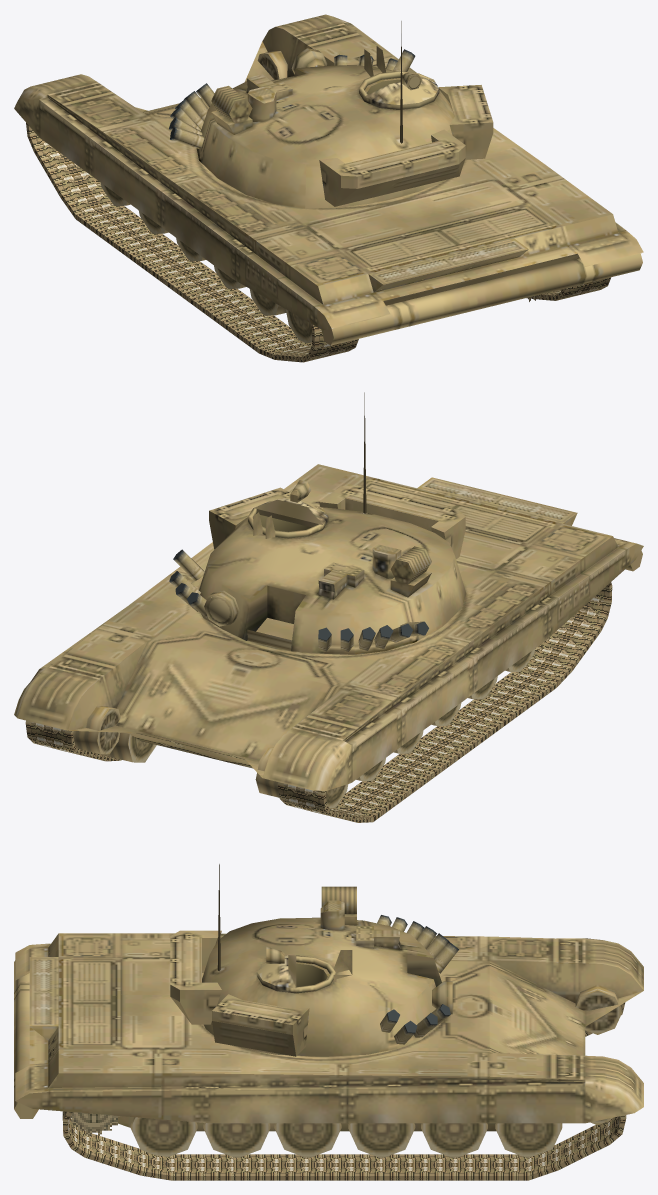
3 views of the same model, one above another, from view 1: azimuth 30°, elevation 25°; view 2: azimuth 150°, elevation 25°; view 3: azimuth 270°, elevation 25° (orthographic). The views are drawn at different scales.
Parts seen in each view (by area): view 1: BODY, TURRET, T72M1_TRACK_LEFT, 12.7MM_NSVT_MOUNT&IR_SEARCHLIGHT, T72M1_TRACK_RIGHT, T72_LEFT_WHEEL1, T72_RIGHT_WHEEL2; view 2: BODY, TURRET, T72M1_TRACK_LEFT, 12.7MM_NSVT_MOUNT&IR_SEARCHLIGHT, T72_LEFT_WHEEL1, T72M1_TRACK_RIGHT, T72_LEFT_WHEEL2; view 3: BODY, TURRET, T72M1_TRACK_RIGHT, T72_LEFT_WHEEL2 (×6), 12.7MM_NSVT_MOUNT&IR_SEARCHLIGHT, T72_RIGHT_WHEEL1, T72_LEFT_WHEEL3.
Part boxes in pixels (bbox=[...]): BODY: bbox=[14, 14, 643, 345]; TURRET: bbox=[169, 21, 493, 208]; T72M1_TRACK_LEFT: bbox=[26, 123, 358, 362]; 12.7MM_NSVT_MOUNT&IR_SEARCHLIGHT: bbox=[359, 46, 439, 109]; T72M1_TRACK_RIGHT: bbox=[526, 257, 610, 300]; T72_LEFT_WHEEL1: bbox=[257, 51, 287, 79]; T72_RIGHT_WHEEL2: bbox=[285, 309, 311, 342]; BODY: bbox=[14, 464, 643, 790]; TURRET: bbox=[169, 392, 466, 654]; T72M1_TRACK_LEFT: bbox=[278, 582, 612, 822]; 12.7MM_NSVT_MOUNT&IR_SEARCHLIGHT: bbox=[248, 480, 328, 538]; T72_LEFT_WHEEL1: bbox=[73, 705, 120, 754]; T72M1_TRACK_RIGHT: bbox=[25, 720, 121, 761]; T72_LEFT_WHEEL2: bbox=[102, 732, 156, 762]; BODY: bbox=[14, 933, 643, 1131]; TURRET: bbox=[170, 864, 458, 1056]; T72M1_TRACK_RIGHT: bbox=[62, 1111, 626, 1180]; T72_LEFT_WHEEL2 (×6): bbox=[130, 1117, 562, 1157]; 12.7MM_NSVT_MOUNT&IR_SEARCHLIGHT: bbox=[257, 946, 352, 993]; T72_RIGHT_WHEEL1: bbox=[575, 984, 622, 1034]; T72_LEFT_WHEEL3: bbox=[70, 1112, 121, 1135].
Size of the model in its own units: 4 by 3.36 by 7.17.
5 materials, 5 textured.
